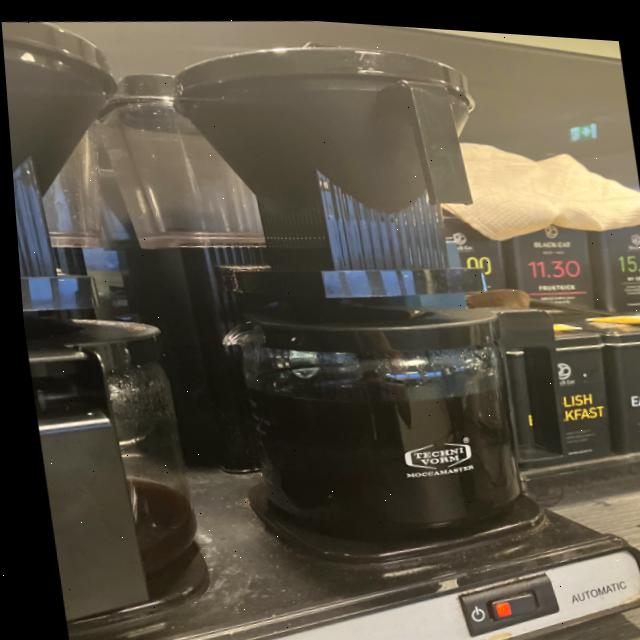coffee: (208, 287, 531, 547)
